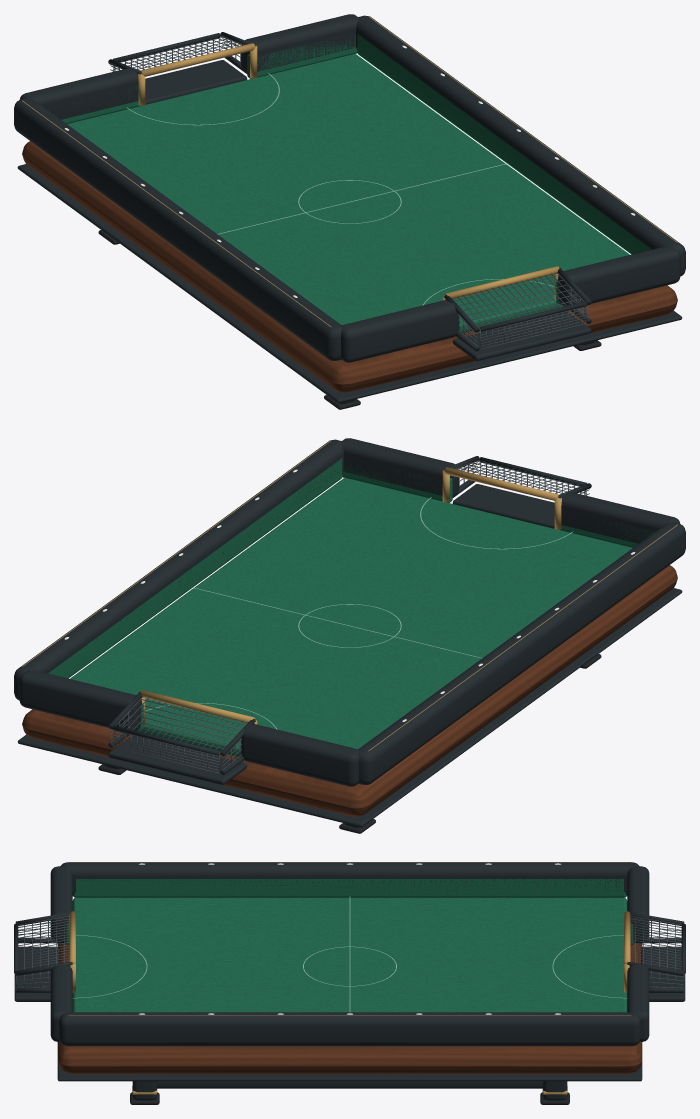
File: BossFight_FeltHockey.fbx
3 views of the same model, one above another, from view 1: azimuth 30°, elevation 25°; view 2: azimuth 150°, elevation 25°; view 3: azimuth 270°, elevation 25° (orthographic). The views are drawn at different scales.
Visible parts, largest first — view 1: BF_FeltBed, BF_Cabinet, BF_Rail_Left, BF_Rail_Right, BF_CabinetBottomTrim, BF_Cushion_Right, BF_EndRail_Near_-1, BF_EndRail_Near_1, BF_EndRail_Far_1, BF_EndRail_Far_-1, BF_GoalNet_Near, BF_GoalTray_Near (+6 smaller); view 2: BF_FeltBed, BF_Cabinet, BF_Rail_Left, BF_Rail_Right, BF_CabinetBottomTrim, BF_Cushion_Right, BF_EndRail_Far_-1, BF_EndRail_Far_1, BF_EndRail_Near_1, BF_EndRail_Near_-1, BF_GoalNet_Far, BF_GoalTray_Far (+7 smaller); view 3: BF_FeltBed, BF_Rail_Right, BF_Cabinet, BF_Cushion_Left, BF_Rail_Left, BF_CabinetBottomTrim, BF_Stretcher_2.28, BF_GoalNet_Far, BF_GoalNet_Near, BF_GoalTray_Far, BF_GoalTray_Near, BF_EndRail_Far_-1 (+7 smaller).
Boxes of the visible parts, <box> form: BF_FeltBed: <box>67,54,629,360</box>; BF_Cabinet: <box>22,141,677,392</box>; BF_Rail_Left: <box>14,98,341,360</box>; BF_Rail_Right: <box>356,15,685,276</box>; BF_CabinetBottomTrim: <box>17,164,682,403</box>; BF_Cushion_Right: <box>357,34,651,254</box>; BF_EndRail_Near_-1: <box>341,300,458,362</box>; BF_EndRail_Near_1: <box>558,246,680,305</box>; BF_EndRail_Far_1: <box>241,14,358,73</box>; BF_EndRail_Far_-1: <box>19,68,138,119</box>; BF_GoalNet_Near: <box>451,272,589,349</box>; BF_GoalTray_Near: <box>452,312,591,360</box>; BF_FeltBed: <box>70,478,632,784</box>; BF_Cabinet: <box>22,565,677,816</box>; BF_Rail_Left: <box>358,522,685,784</box>; BF_Rail_Right: <box>14,439,343,700</box>; BF_CabinetBottomTrim: <box>17,588,682,827</box>; BF_Cushion_Right: <box>48,458,342,678</box>; BF_EndRail_Far_-1: <box>241,724,358,786</box>; BF_EndRail_Far_1: <box>19,670,141,729</box>; BF_EndRail_Near_1: <box>341,438,458,497</box>; BF_EndRail_Near_-1: <box>561,492,680,543</box>; BF_GoalNet_Far: <box>110,696,248,773</box>; BF_GoalTray_Far: <box>108,736,247,784</box>; BF_FeltBed: <box>72,897,627,1012</box>; BF_Rail_Right: <box>59,1012,640,1046</box>; BF_Cabinet: <box>57,943,642,1073</box>; BF_Cushion_Left: <box>73,879,626,897</box>; BF_Rail_Left: <box>60,862,639,895</box>; BF_CabinetBottomTrim: <box>57,1061,642,1081</box>; BF_Stretcher_2.28: <box>157,1081,542,1088</box>; BF_GoalNet_Far: <box>630,916,684,990</box>; BF_GoalNet_Near: <box>15,916,69,990</box>; BF_GoalTray_Far: <box>641,946,685,1001</box>; BF_GoalTray_Near: <box>14,946,58,1001</box>; BF_EndRail_Far_-1: <box>627,866,649,943</box>.
Size of the model in its own units: 6.8 by 2.21 by 12.12.
8 materials, 2 textured.
